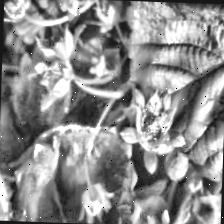Blossom Blight: (134, 96, 174, 152)
